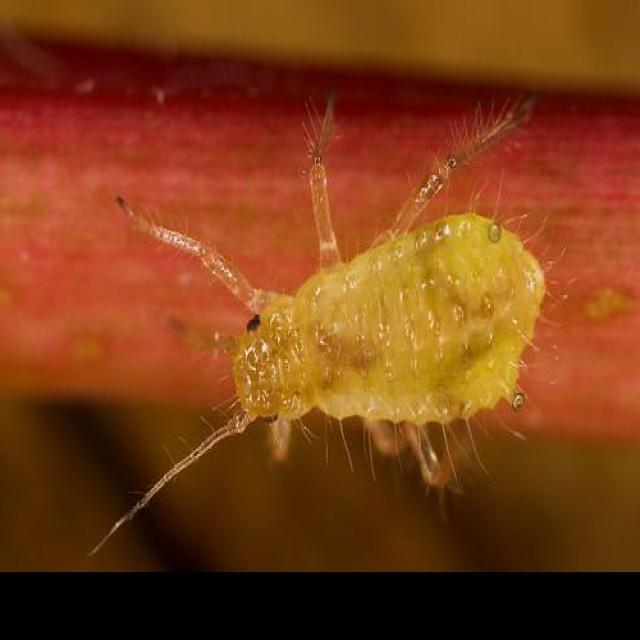aphid: (122, 128, 556, 512)
